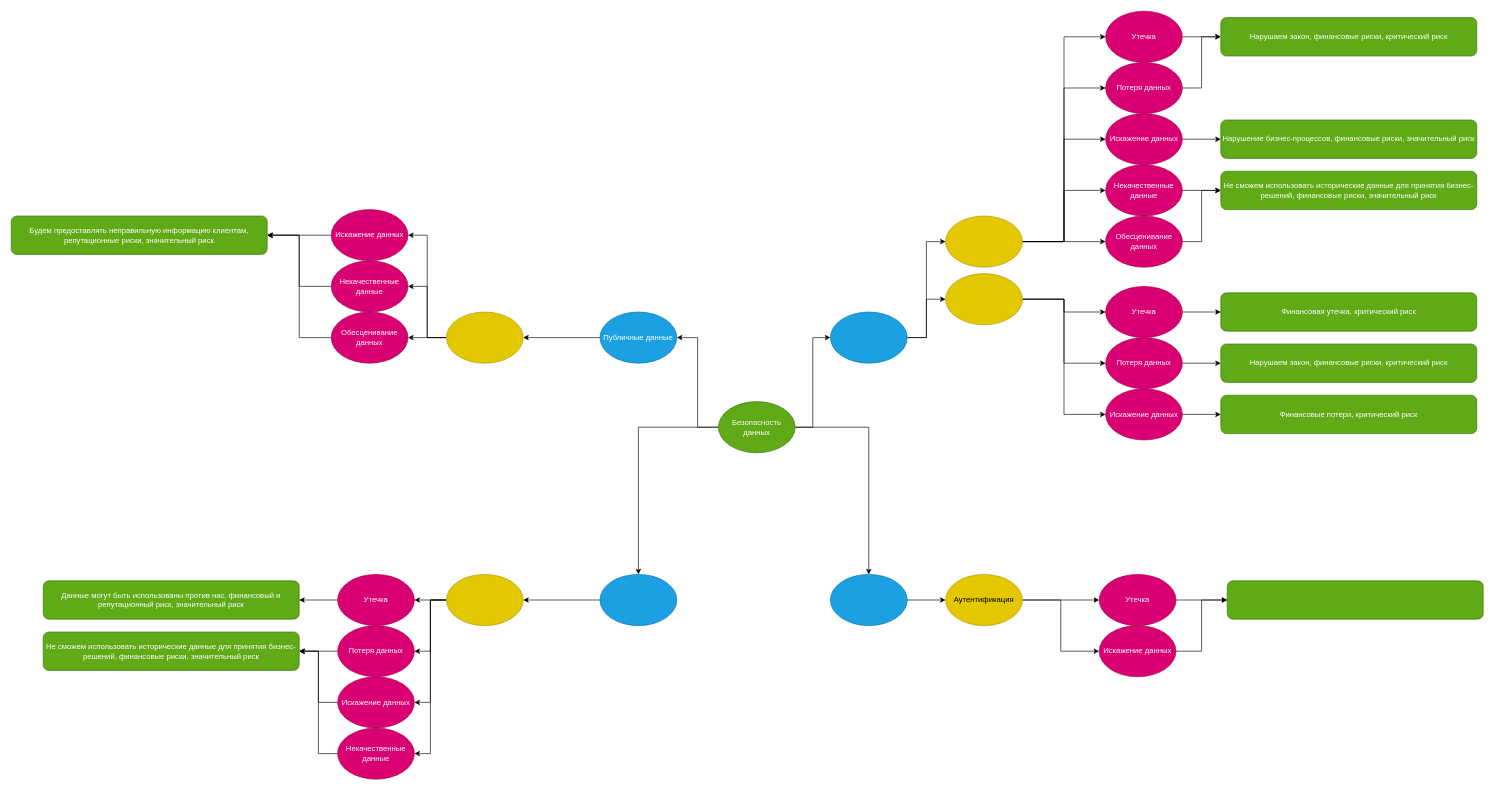
The diagram is 1494 pixels wide and 790 high, and some of its shapes have lost their labels. Each missing label, with the centre of its shape:
"CRM" goes at point (983, 241).
"Внутренние данные" goes at point (638, 600).
"Возможен взлом, критический риск" goes at point (1355, 599).
"Конфиденциальные данные" goes at point (868, 337).
"Недвижимость, онлайн-туры" goes at point (484, 337).
"Сделки" goes at point (484, 600).
"секретные данные" goes at point (868, 600).
"Финансовая информация" goes at point (983, 299).
